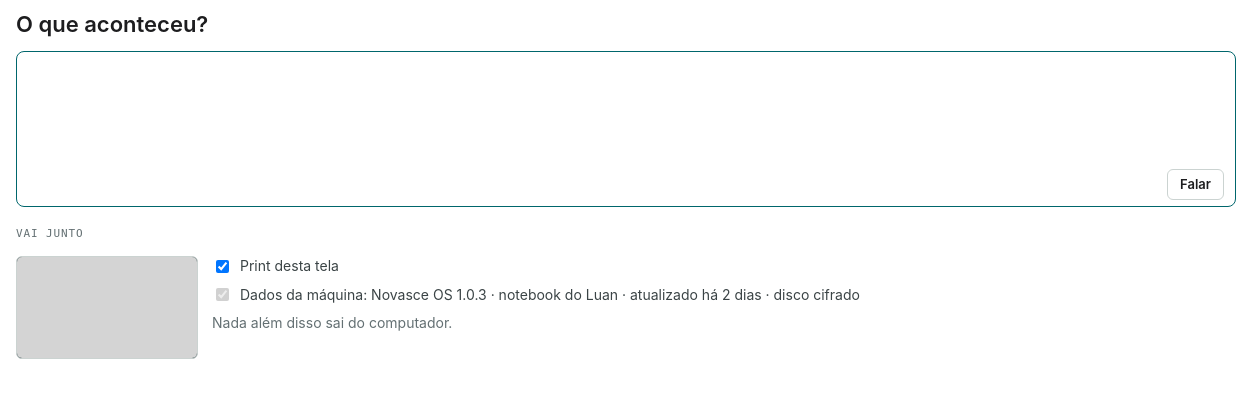
Test case: Pedir ajuda › falar acrescenta o texto ditado
(page scrolled)
expect the text "Dados da máquina" is shown: met, box [240,286,371,302]
Click the button "Falar" at (1196, 185), box [1167,169,1224,200]
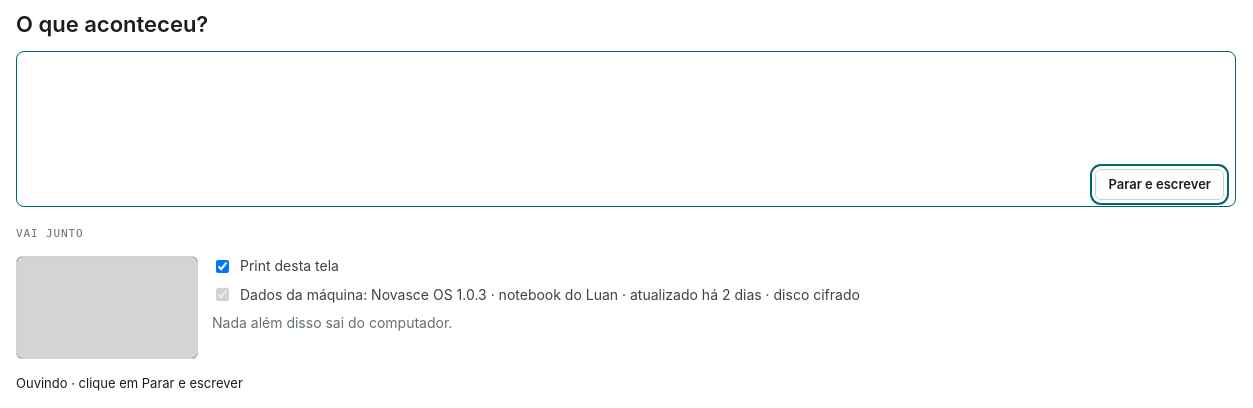
Click the button "Parar e escrever" at (1160, 185), box [1095,169,1224,200]
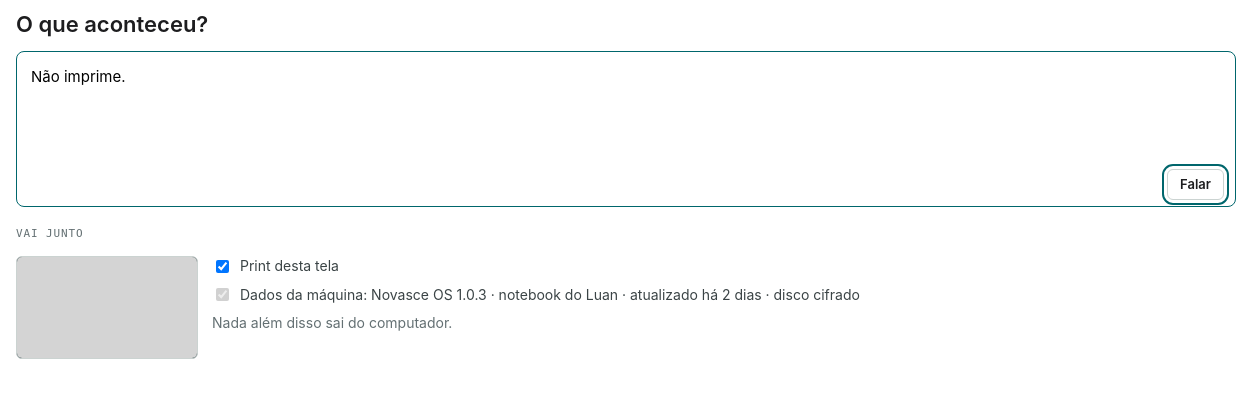
expect the text box labelled "O que aconteceu?" holds "Não imprime.": met, box [16,51,1236,207]
